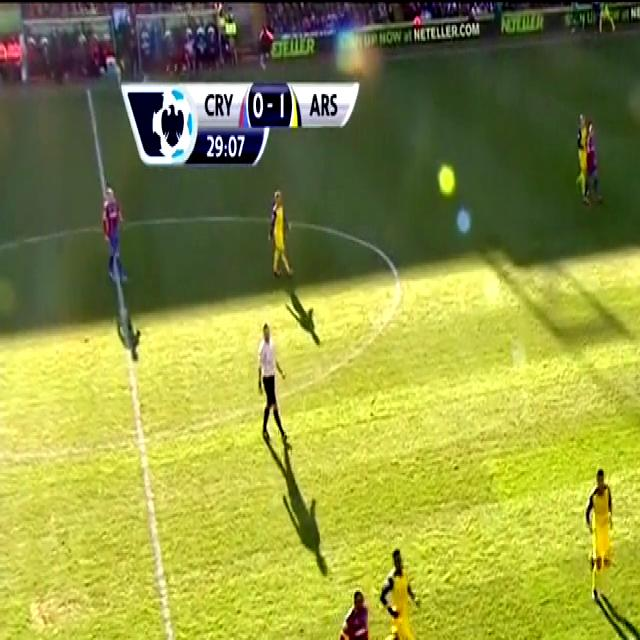referee: (250, 310, 292, 447)
soccer-player: (373, 540, 425, 640), (579, 462, 619, 578), (569, 107, 609, 210), (94, 182, 130, 280), (264, 184, 300, 280), (339, 588, 400, 640)
